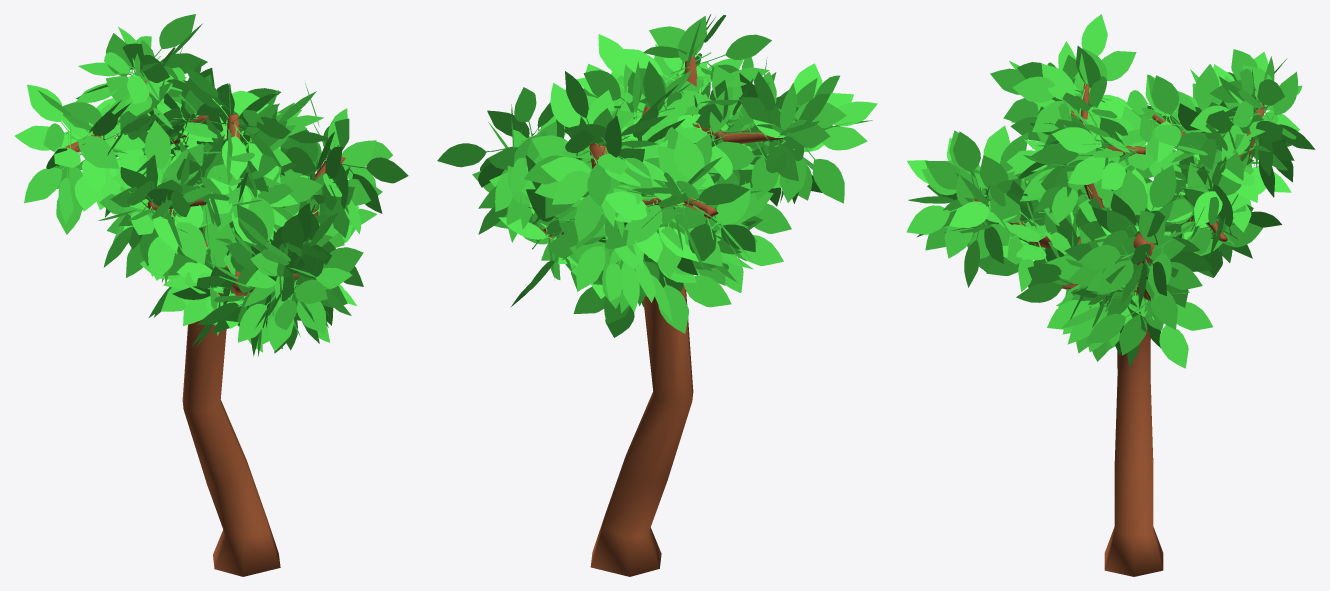
The model's file is Tree.fbx.
The picture shows the model from 3 angles, left to right: view 1: azimuth 30°, elevation 25°; view 2: azimuth 150°, elevation 25°; view 3: azimuth 270°, elevation 25°; orthographic projection. The views are drawn at different scales.
Parts seen in each view (by area): view 1: tree; view 2: tree; view 3: tree.
Boxes of the visible parts, x1,y1,x2,y2 form: tree: (15,14,408,576); tree: (437,14,877,576); tree: (906,14,1315,576).
Size of the model in its own units: 10.41 by 10.78 by 14.82.
